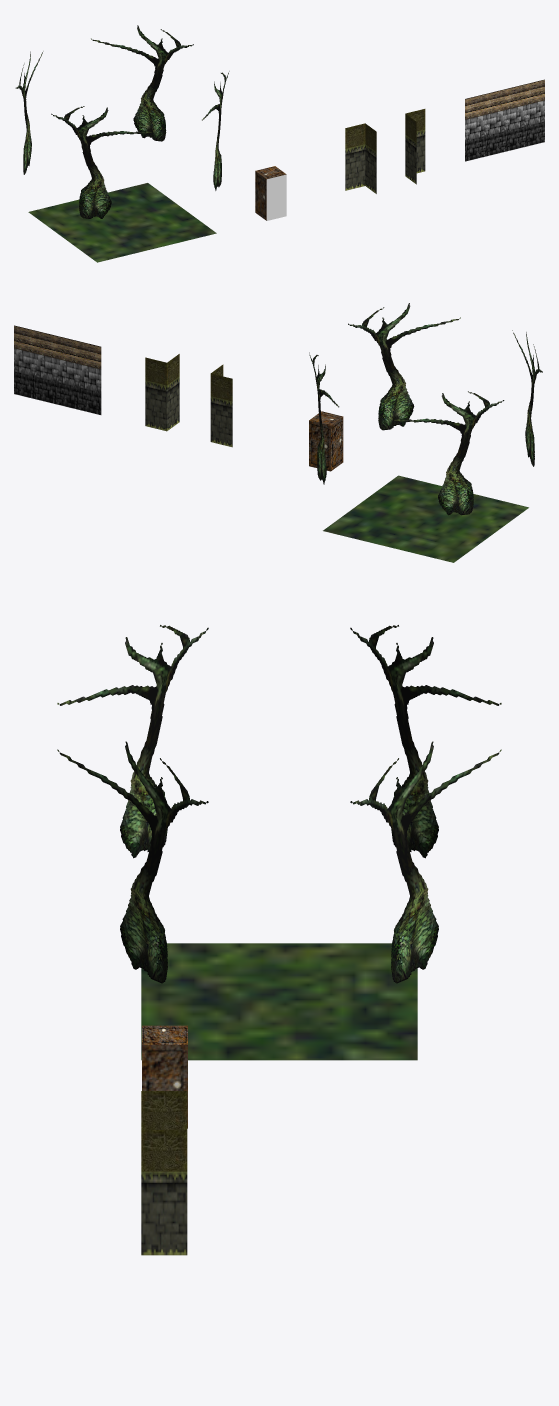
Rendered from 2048ChamberPieces.fbx.
3 renders of one model, top to bottom at view 1: azimuth 30°, elevation 25°; view 2: azimuth 150°, elevation 25°; view 3: azimuth 270°, elevation 25°, orthographic. The views are drawn at different scales.
Parts seen in each view (by area): view 1: fff.002, Wall, fff, Wall.013; view 2: fff.002, Wall, fff, Wall.013; view 3: fff.002, fff, Wall.013.
Boxes of the visible parts, box(x1,y1,x2,y2) form: fff.002: box(15, 25, 229, 262); Wall: box(465, 79, 544, 161); fff: box(345, 109, 425, 193); Wall.013: box(255, 166, 286, 220); fff.002: box(309, 303, 542, 562); Wall: box(14, 325, 101, 414); fff: box(145, 354, 232, 447); Wall.013: box(309, 411, 343, 471); fff.002: box(57, 625, 501, 1060); fff: box(141, 1091, 187, 1255); Wall.013: box(142, 1025, 187, 1128).
Size of the model in its own units: 2467 by 765 by 1089.
